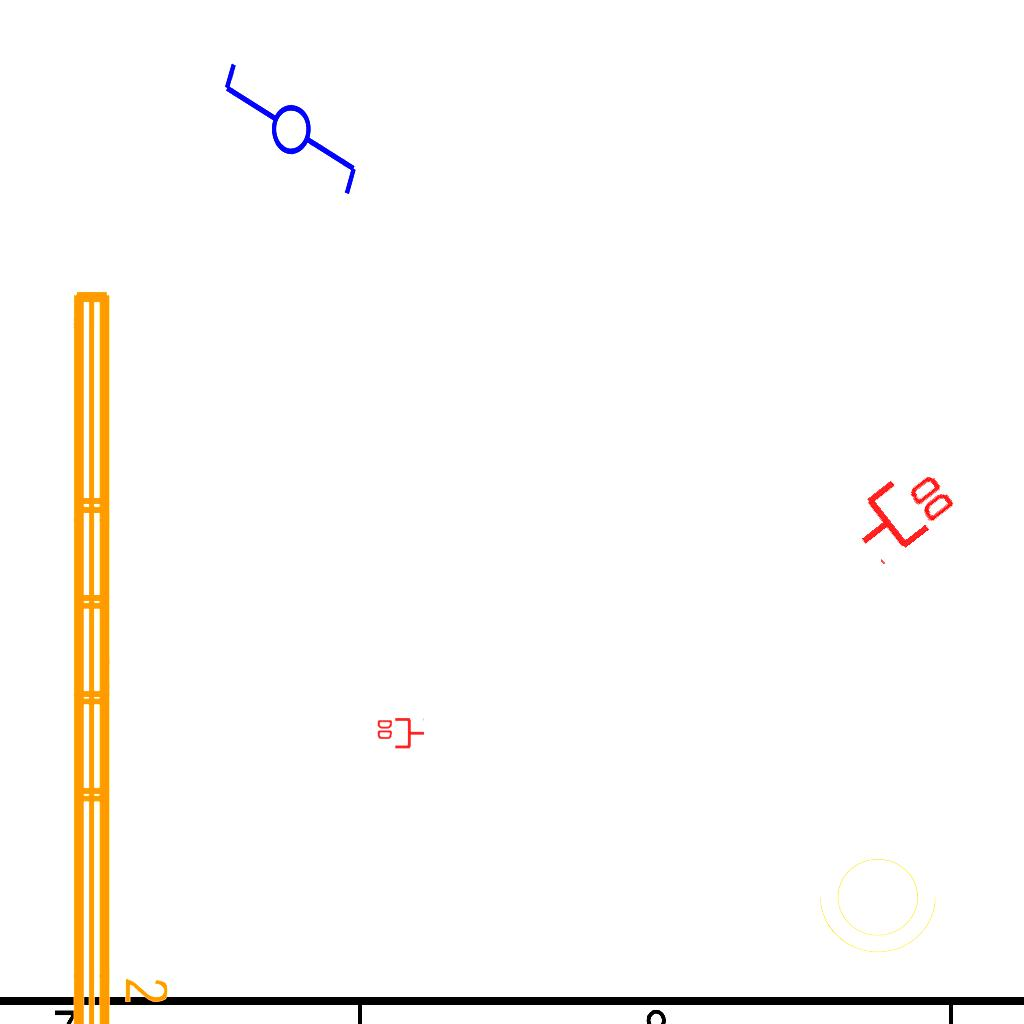Ambulanz_Pendelleuchte_LED: (61, 281, 173, 1024)
Datenanschluss_zweifach: (838, 451, 963, 570), (375, 717, 426, 751)
Scheinwerfer_fuer_Alarmbeleuchtung: (815, 846, 947, 958)
Wechselschalter: (217, 59, 361, 216)
